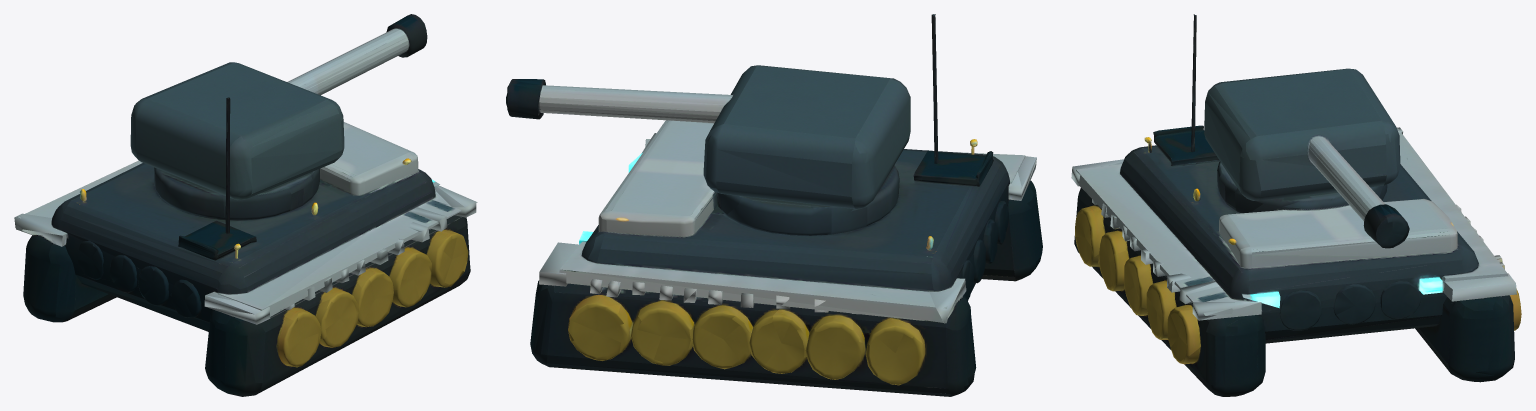
The model's file is light-tank.glb.
3 views of the same model, side by side, from view 1: azimuth 30°, elevation 25°; view 2: azimuth 150°, elevation 25°; view 3: azimuth 270°, elevation 25° (orthographic). The views are drawn at different scales.
Bounding box in the file's own units: 1 × 0.6133 × 0.9473.
1 material, 1 textured.
